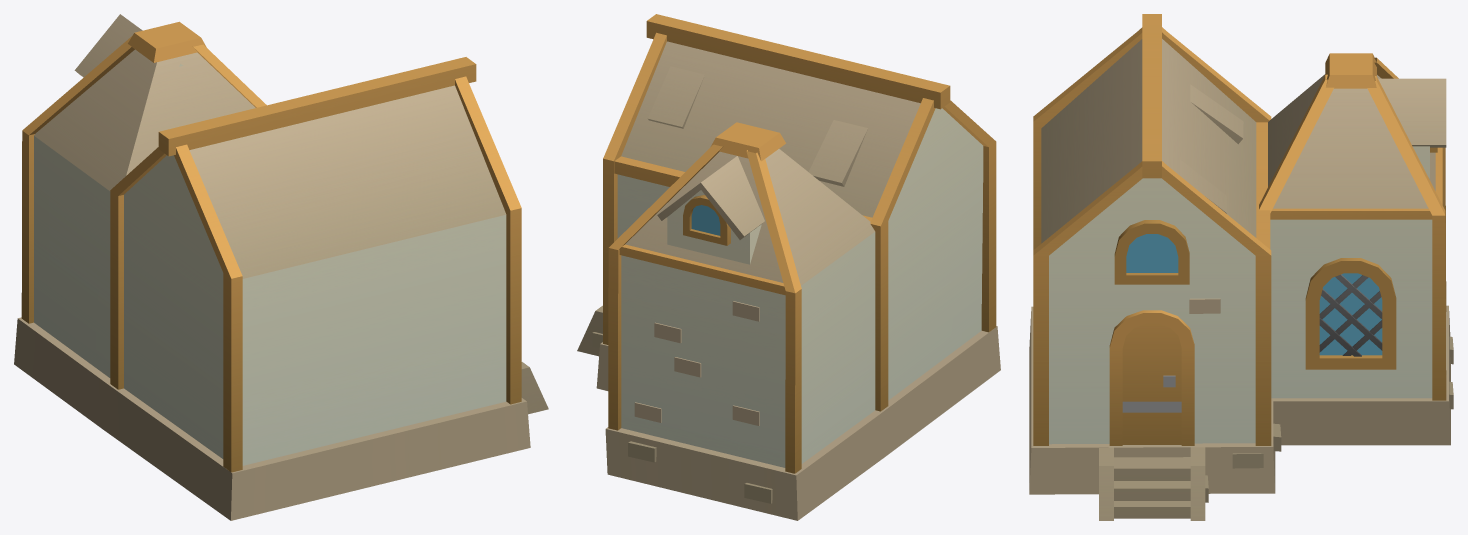
Rendered from House+1.fbx.
3 renders of one model, left to right at view 1: azimuth 30°, elevation 25°; view 2: azimuth 150°, elevation 25°; view 3: azimuth 270°, elevation 25°, orthographic. The views are drawn at different scales.
Parts seen in each view (by area): view 1: House 1; view 2: House 1; view 3: House 1.
Part boxes in pixels (<box>): House 1: <box>14,14,548,520</box>; House 1: <box>577,14,1000,520</box>; House 1: <box>1029,14,1453,520</box>.
Bounding box in the file's own units: 324 × 295 × 338.
